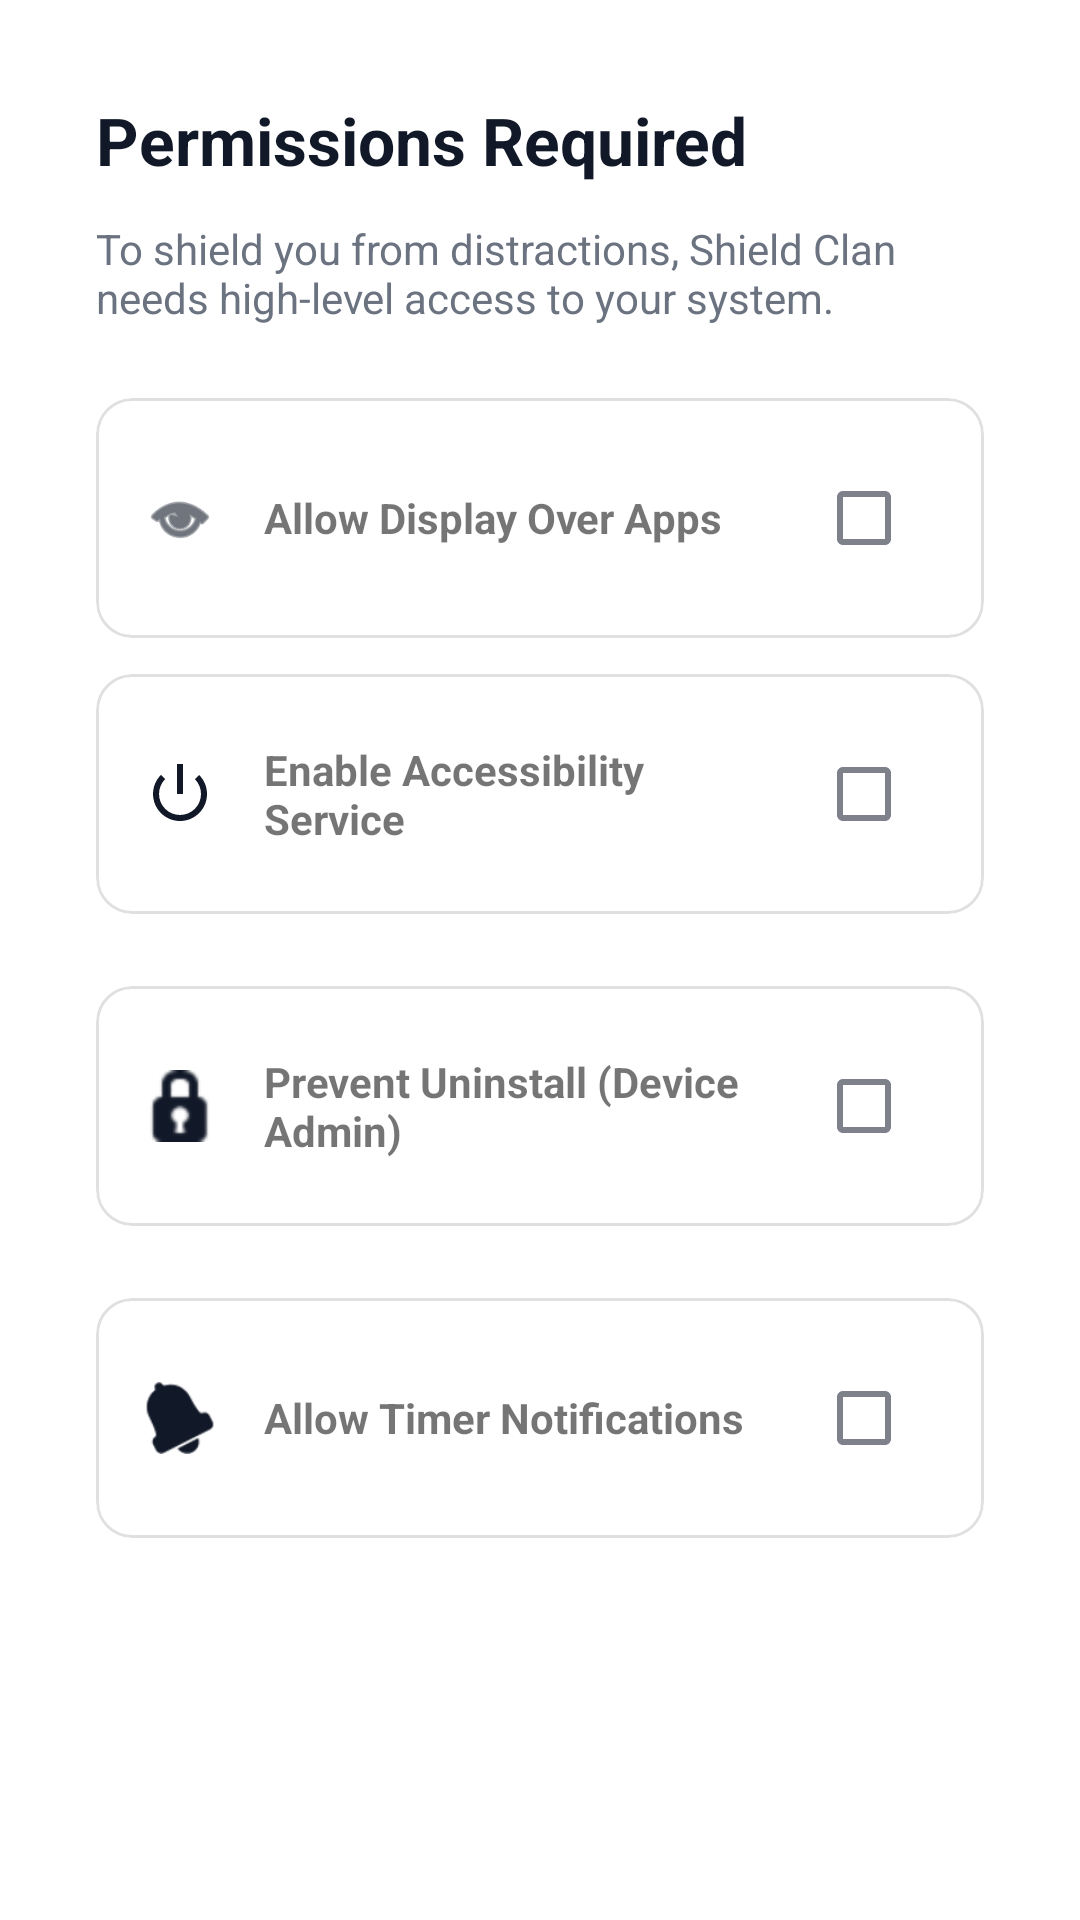

Named icons in this screenshot (1080x1920) and their centers, (x,y):
popup reminder: (180,1418)
secure: (179,1106)
view: (180,519)
